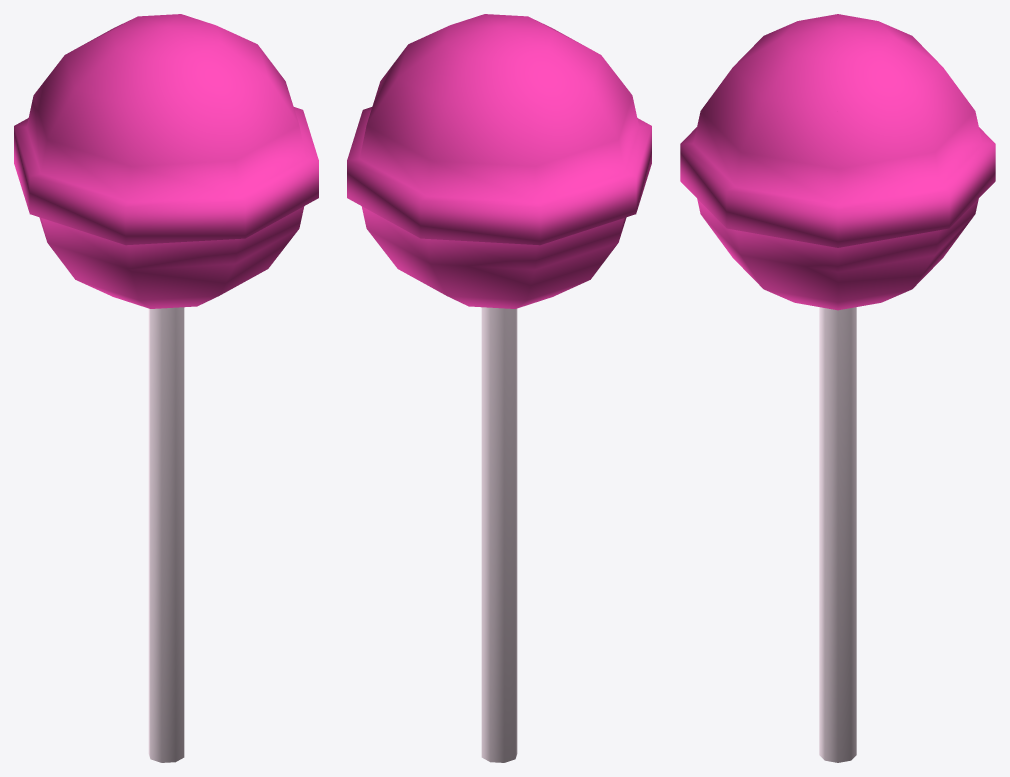
The model's file is lollipop.fbx.
3 renders of one model, left to right at view 1: azimuth 30°, elevation 25°; view 2: azimuth 150°, elevation 25°; view 3: azimuth 270°, elevation 25°, orthographic.
Parts seen in each view (by area): view 1: lollipop; view 2: lollipop; view 3: lollipop.
Part boxes in pixels (x1,y1,x2,y2): lollipop: (14, 14, 318, 762); lollipop: (347, 14, 651, 762); lollipop: (680, 14, 995, 762).
Size of the model in its own units: 25.03 by 63.95 by 25.03.
